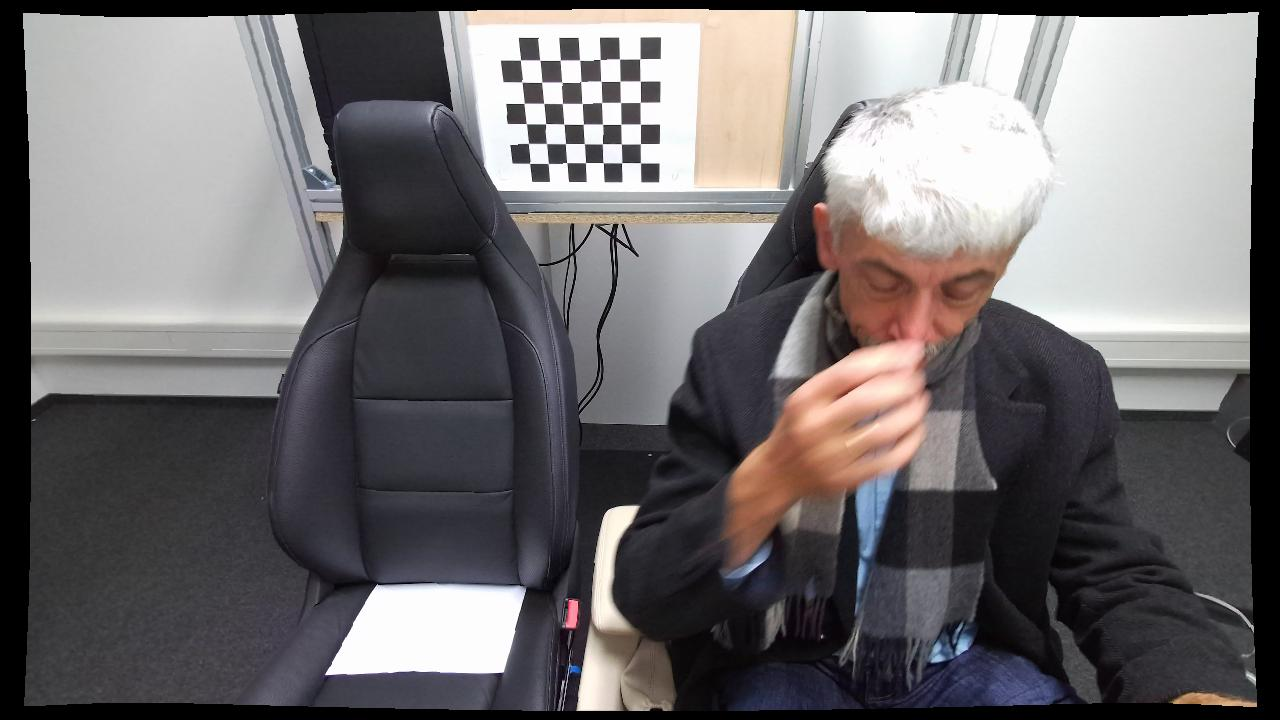Distracted: (612, 76, 1171, 712)
